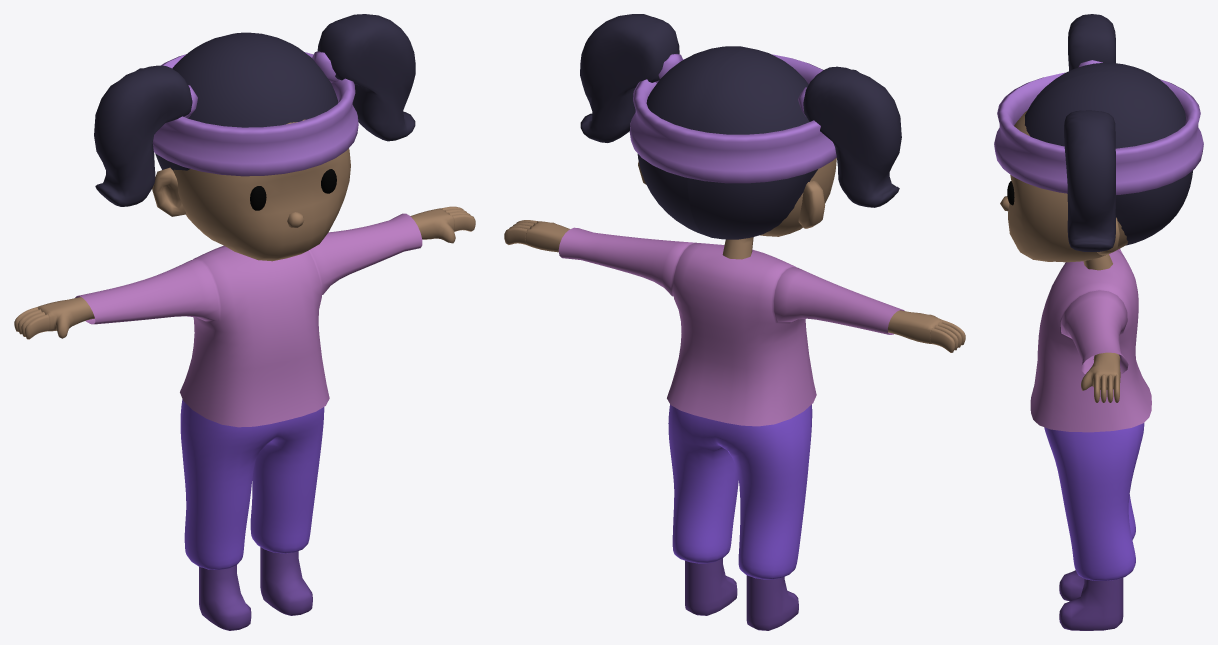
Rendered from NIÑA.fbx.
3 renders of one model, left to right at view 1: azimuth 30°, elevation 25°; view 2: azimuth 150°, elevation 25°; view 3: azimuth 270°, elevation 25°, orthographic. The views are drawn at different scales.
Visible parts, largest first — view 1: Cube.008; view 2: Cube.008; view 3: Cube.008.
Part boxes in pixels (left/top/right/bottom): Cube.008: left=14, top=14, right=475, bottom=630; Cube.008: left=504, top=14, right=965, bottom=630; Cube.008: left=994, top=14, right=1203, bottom=630.
Bounding box in the file's own units: 369 × 446 × 156.
